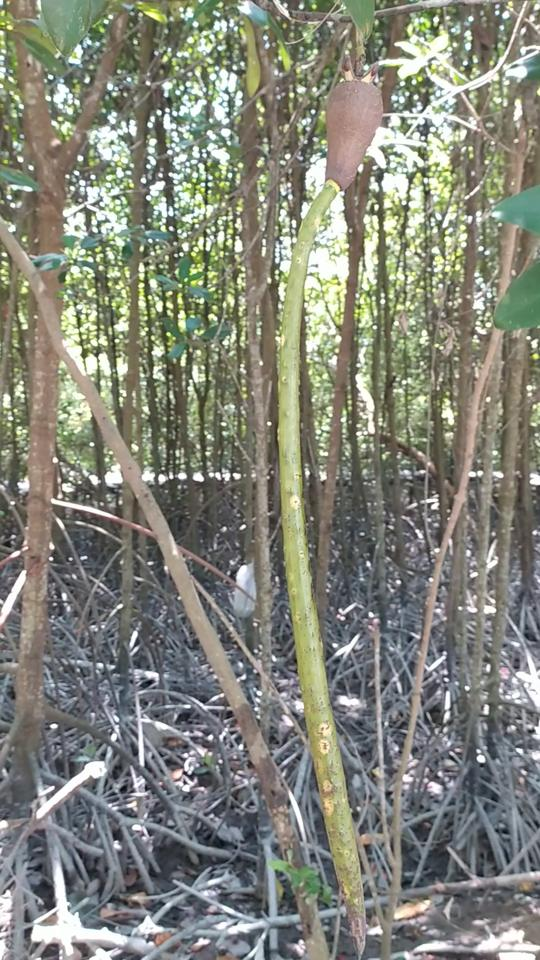setengah matang: (274, 58, 402, 952)
